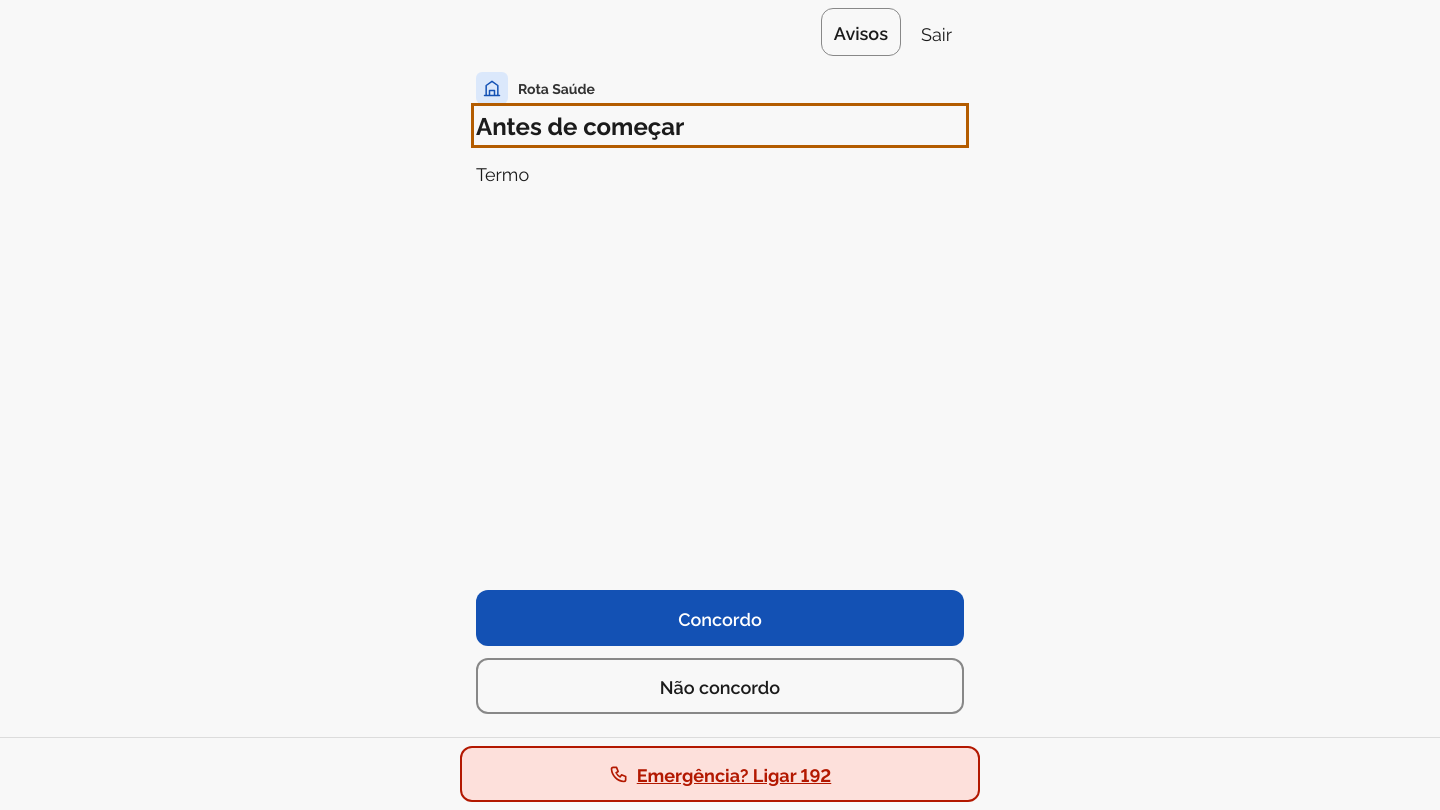
Flow — link Avisos no topo › api sem a rota de avisos: o topo mostra o link sem selo, sem erro, e a triagem segue
Click the button "Concordo": [720, 618] box [476, 590, 964, 646]
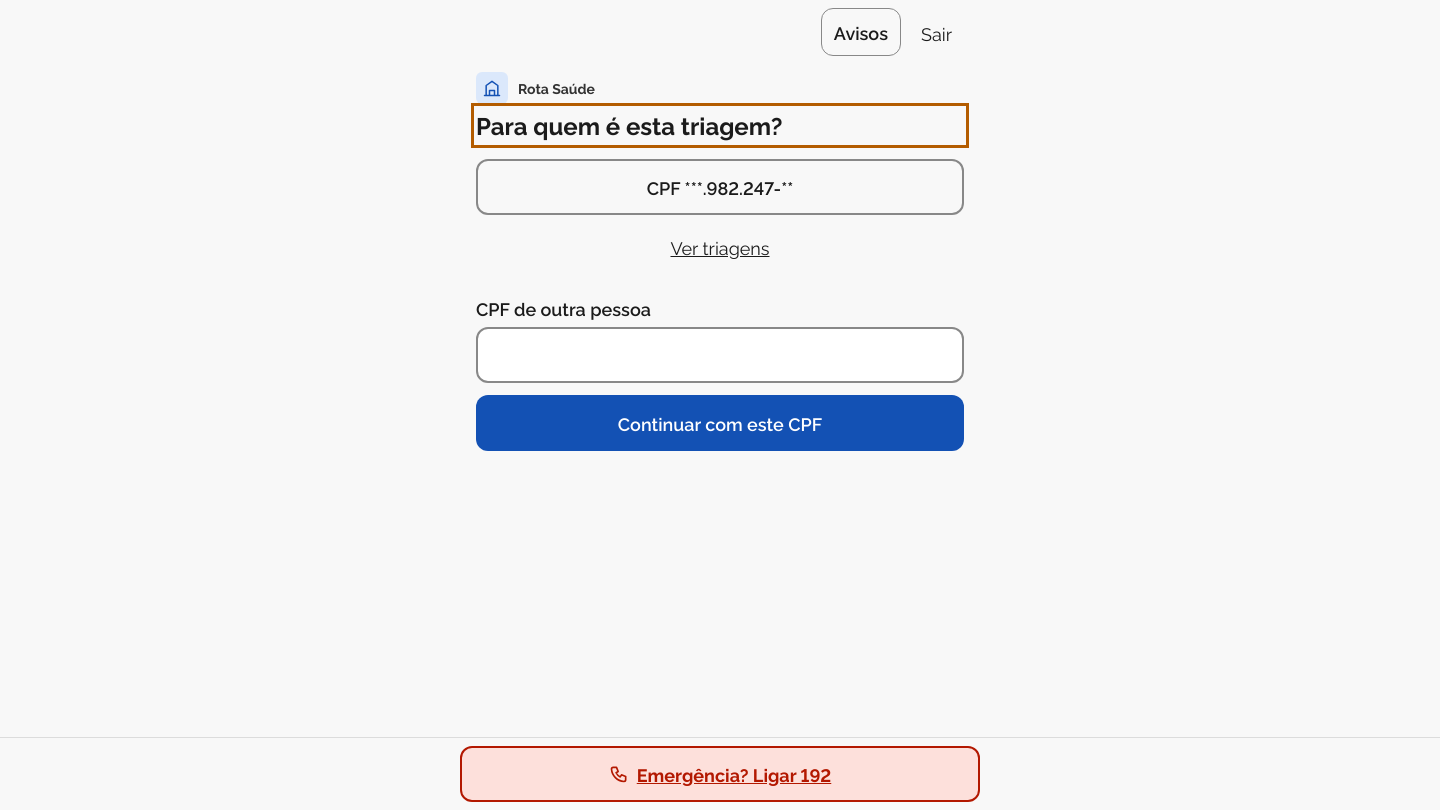
Expected: the link "Avisos" is shown, [821, 8, 901, 56]
Expected: the button "CPF ***.982.247-**" is shown, [476, 159, 964, 215]
